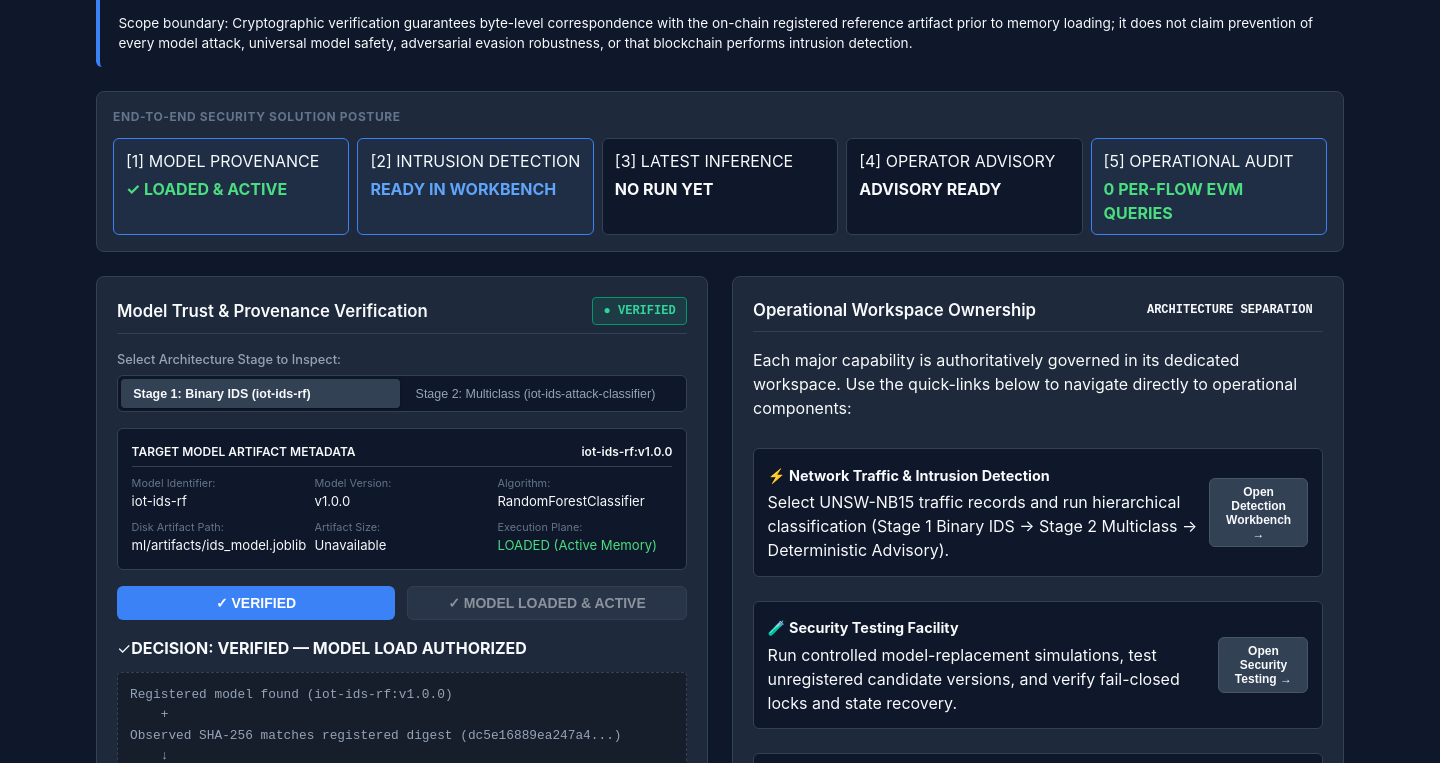
Test case: Phase 7D.4 Deduplicated Frontend Architecture & Solution Workflow Tests › 8. Security Solution stage target selector toggles between Stage 1 and Stage 2
(page scrolled)
Check: the element with test id "stage-target-selector" is shown, box [117,350,687,412]
Switch to Stage 2
Click the button with test id "target-stage2-btn" at (543, 394), box [404,379,683,408]
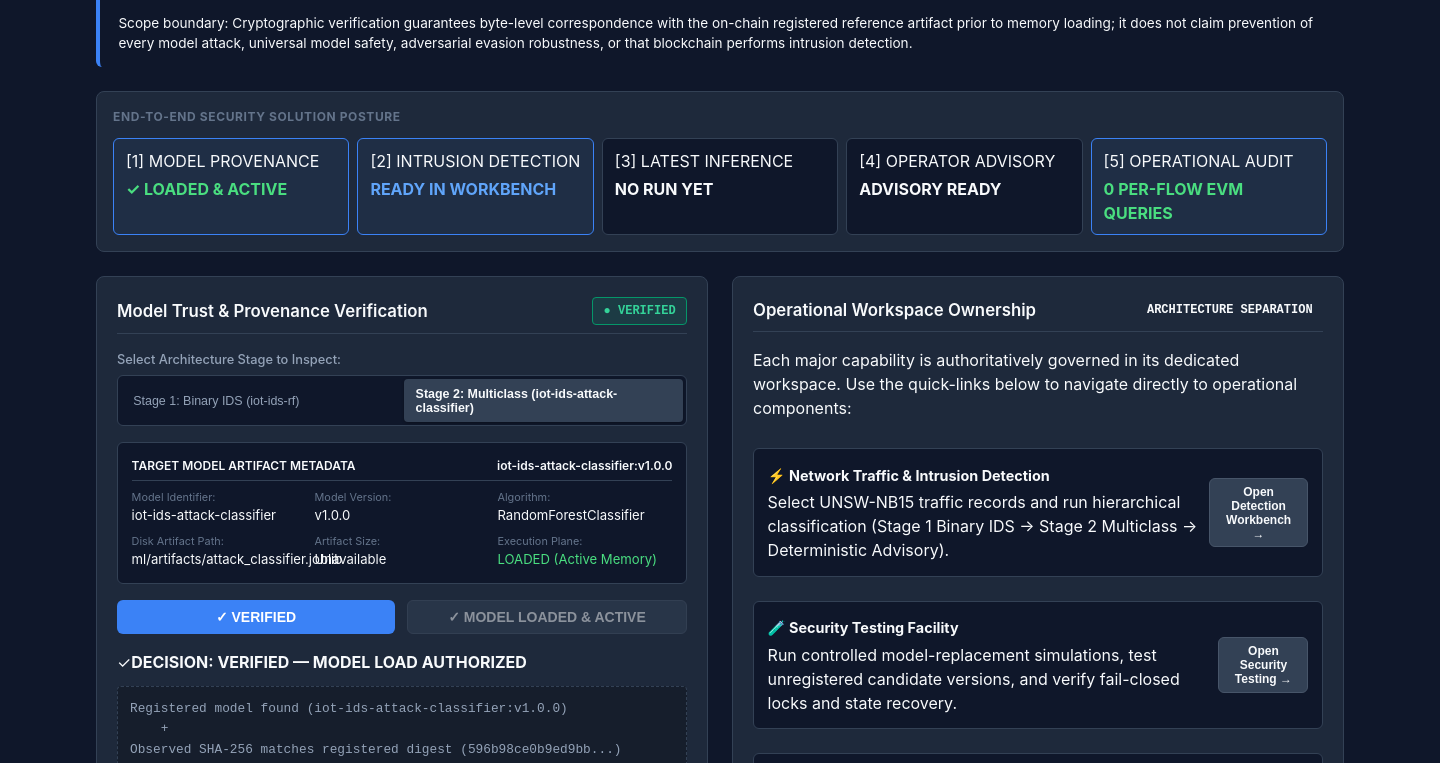
Check: the text "iot-ids-attack-classifier" is shown, box [132,506,276,522]
Switch back to Stage 1
Click the button with test id "target-stage1-btn" at (261, 401), box [121,379,400,422]
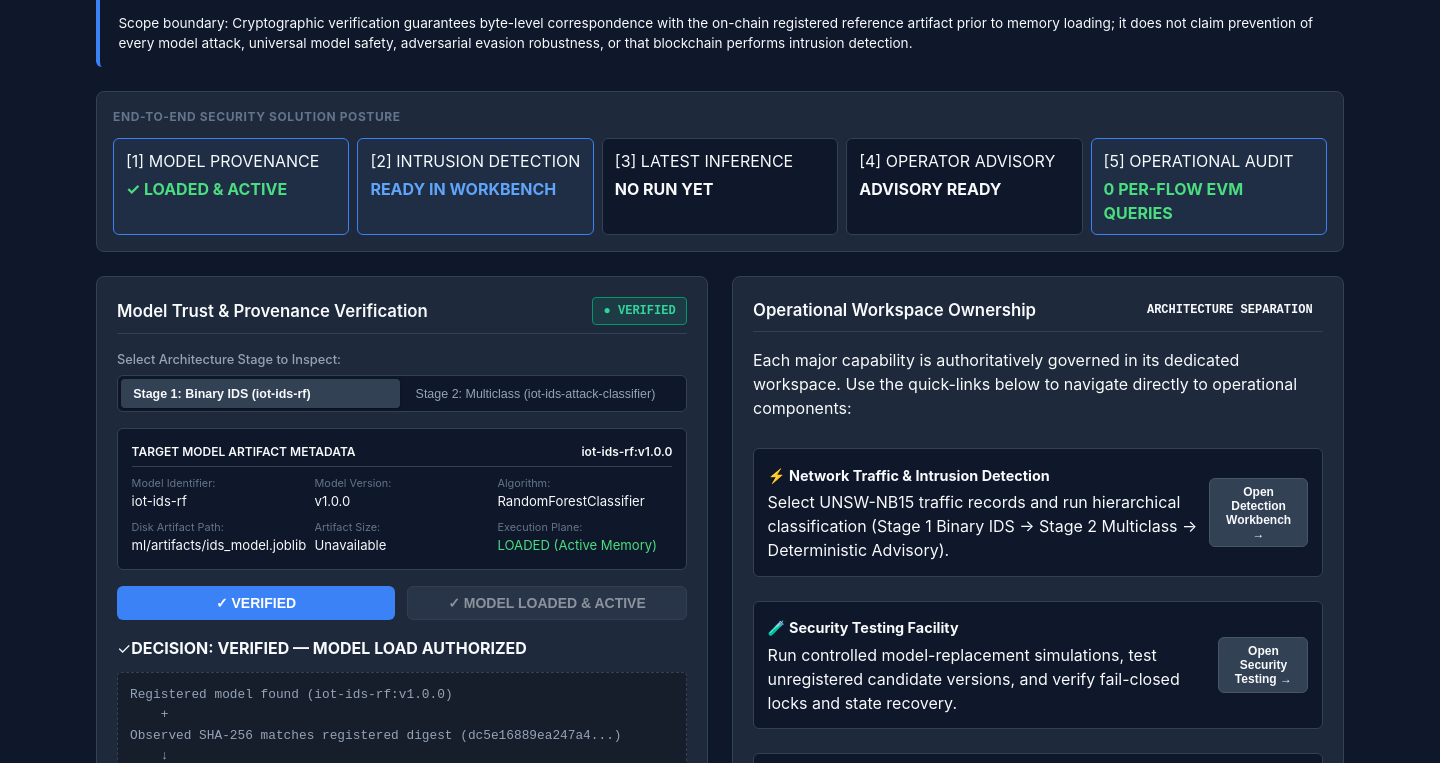
Check: the text "iot-ids-rf" is shown, box [132,492,187,508]
